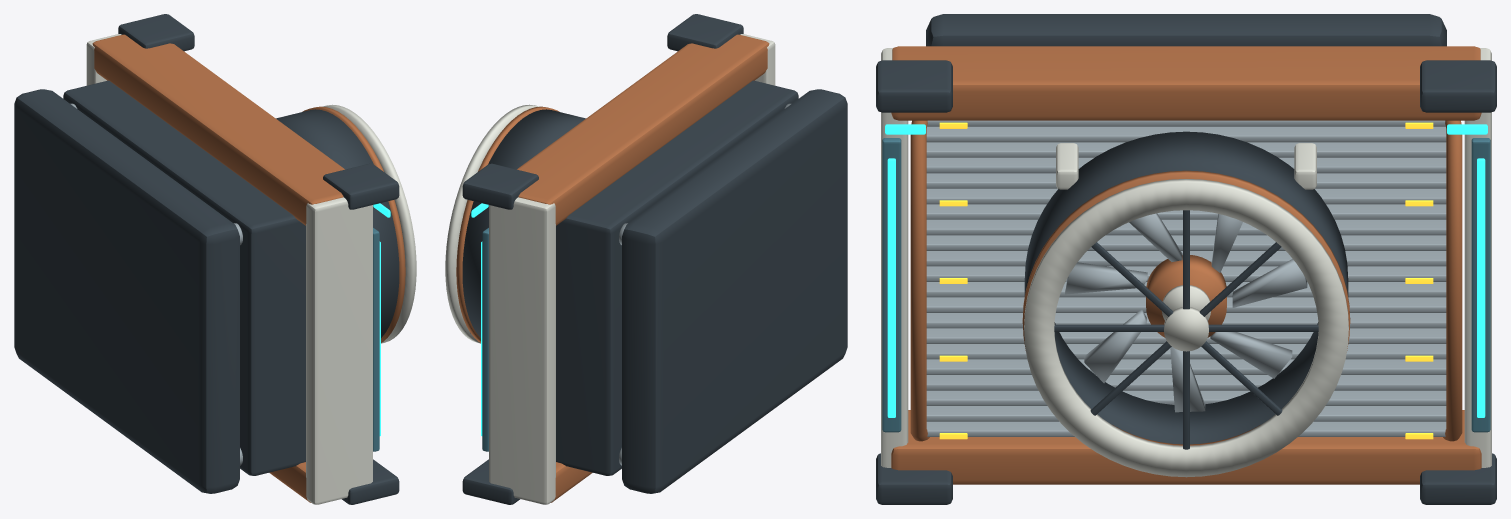
Rendered from M05-009_side_liquid_radiator.fbx.
3 renders of one model, left to right at view 1: azimuth 30°, elevation 25°; view 2: azimuth 150°, elevation 25°; view 3: azimuth 270°, elevation 25°, orthographic. The views are drawn at different scales.
Parts seen in each view (by area): view 1: Mount_Backplate, Core_Heat_Exchanger, Side_Rail_-1, Upper_Manifold, Fan_Duct_Outer, Fan_Front_Guard, Corner_Armor_Top_-1, Corner_Armor_Top_1, Fan_Duct_Copper_Lip, Coolant_Glass_-1, Corner_Armor_Bottom_-1, Lower_Manifold (+1 smaller); view 2: Mount_Backplate, Core_Heat_Exchanger, Side_Rail_1, Upper_Manifold, Fan_Duct_Outer, Fan_Front_Guard, Corner_Armor_Top_1, Corner_Armor_Top_-1, Fan_Duct_Copper_Lip, Coolant_Glass_1, Corner_Armor_Bottom_1, Lower_Manifold (+1 smaller); view 3: Upper_Manifold, Fan_Front_Guard, Fan_Duct_Outer, Lower_Manifold, Mount_Backplate, Radiator_Fin_19, Radiator_Fin_08, Coolant_Return_-1, Coolant_Return_1, Radiator_Fin_12, Radiator_Fin_03, Radiator_Fin_11 (+47 smaller).
Part boxes in pixels (x1=…): Mount_Backplate: x1=14, y1=89, x2=239, y2=493; Core_Heat_Exchanger: x1=63, y1=80, x2=305, y2=475; Side_Rail_-1: x1=306, y1=197, x2=372, y2=504; Upper_Manifold: x1=92, y1=34, x2=344, y2=225; Fan_Duct_Outer: x1=276, y1=109, x2=399, y2=337; Fan_Front_Guard: x1=322, y1=104, x2=416, y2=343; Corner_Armor_Top_-1: x1=323, y1=163, x2=399, y2=209; Corner_Armor_Top_1: x1=118, y1=14, x2=194, y2=51; Fan_Duct_Copper_Lip: x1=302, y1=106, x2=405, y2=342; Coolant_Glass_-1: x1=373, y1=228, x2=379, y2=451; Corner_Armor_Bottom_-1: x1=341, y1=459, x2=399, y2=504; Lower_Manifold: x1=269, y1=462, x2=310, y2=502; Mount_Backplate: x1=622, y1=89, x2=847, y2=493; Core_Heat_Exchanger: x1=556, y1=80, x2=798, y2=475; Side_Rail_1: x1=489, y1=197, x2=555, y2=504; Upper_Manifold: x1=517, y1=34, x2=769, y2=225; Fan_Duct_Outer: x1=462, y1=109, x2=585, y2=337; Fan_Front_Guard: x1=445, y1=104, x2=539, y2=343; Corner_Armor_Top_1: x1=462, y1=163, x2=538, y2=209; Corner_Armor_Top_-1: x1=667, y1=14, x2=743, y2=51; Fan_Duct_Copper_Lip: x1=456, y1=106, x2=559, y2=342; Coolant_Glass_1: x1=482, y1=228, x2=488, y2=451; Corner_Armor_Bottom_1: x1=462, y1=459, x2=520, y2=504; Lower_Manifold: x1=551, y1=462, x2=592, y2=502; Upper_Manifold: x1=891, y1=46, x2=1481, y2=120; Fan_Front_Guard: x1=1024, y1=179, x2=1348, y2=477; Fan_Duct_Outer: x1=1024, y1=131, x2=1348, y2=444; Lower_Manifold: x1=891, y1=410, x2=1481, y2=484; Mount_Backplate: x1=926, y1=14, x2=1446, y2=46; Radiator_Fin_19: x1=926, y1=126, x2=1446, y2=142; Radiator_Fin_08: x1=926, y1=297, x2=1446, y2=312; Coolant_Return_-1: x1=910, y1=120, x2=929, y2=441; Coolant_Return_1: x1=1443, y1=120, x2=1462, y2=441; Radiator_Fin_12: x1=926, y1=235, x2=1446, y2=250; Radiator_Fin_03: x1=926, y1=375, x2=1446, y2=390; Radiator_Fin_11: x1=926, y1=251, x2=1446, y2=266.
Size of the model in its own units: 56.05 by 67 by 90.6.
